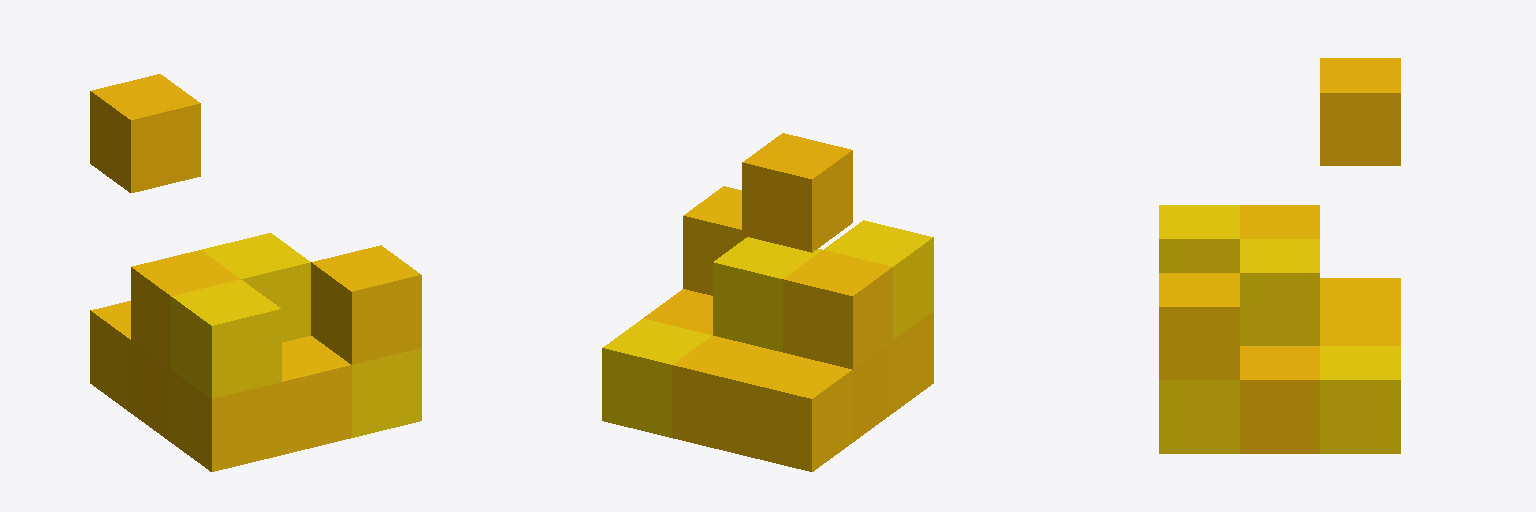
3 views of the same model, side by side, from view 1: azimuth 30°, elevation 25°; view 2: azimuth 150°, elevation 25°; view 3: azimuth 270°, elevation 25° (orthographic).
Parts seen in each view (by area): view 1: flames; view 2: flames; view 3: flames.
Boxes of the visible parts, <box> form: flames: <box>90,74,421,471</box>; flames: <box>602,133,933,471</box>; flames: <box>1159,58,1400,453</box>.
Size of the model in its own units: 0.3 by 0.4 by 0.3.
Materials: 1 (1 with a texture image).